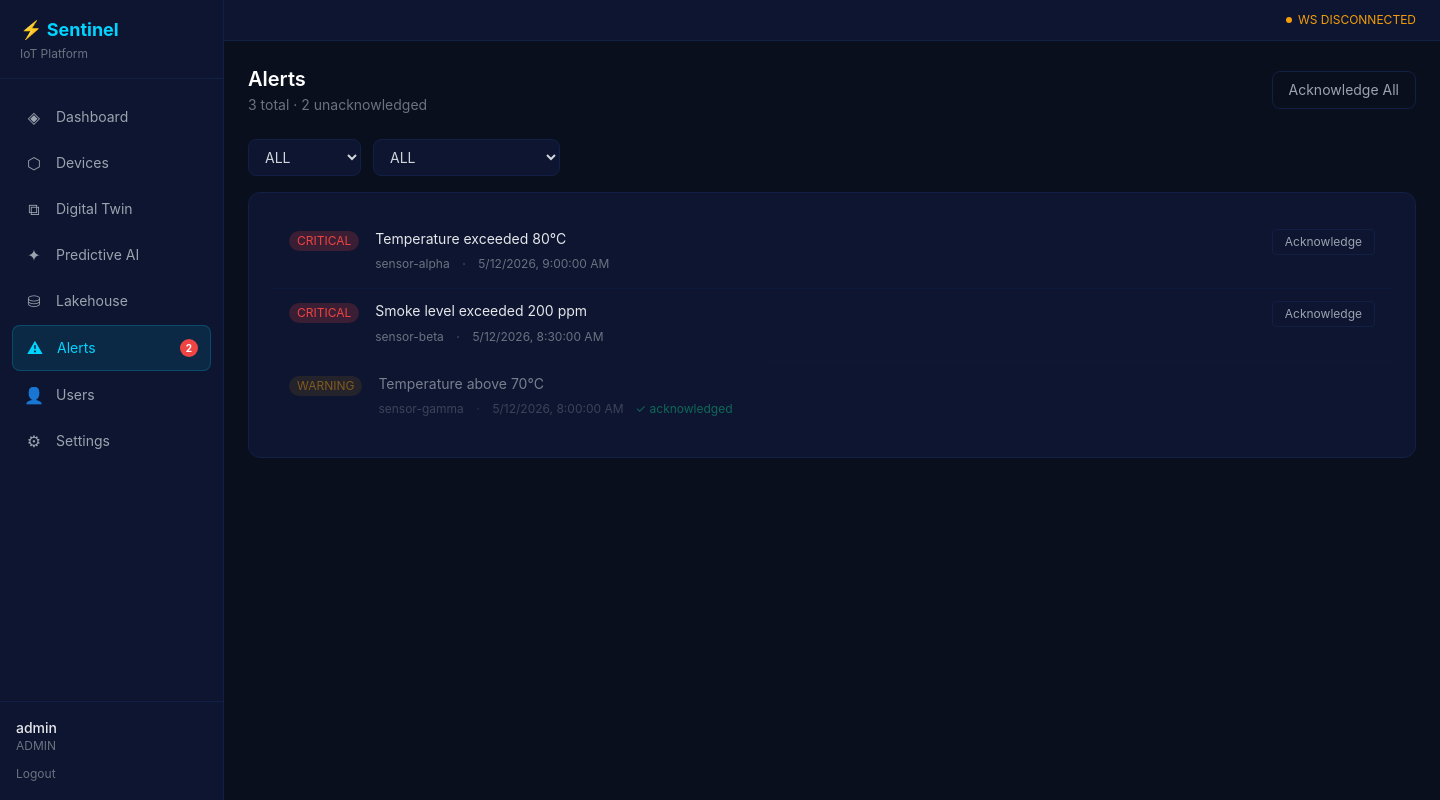
Test: Alerts Page (/alerts) › filter by CRITICAL level hides WARNING alerts
Expected: the text "Temperature above 70°C" is shown, left=378, top=374, right=544, bottom=392
Select "CRITICAL" in the 1st dropdown at (305, 158), box left=248, top=139, right=361, bottom=176
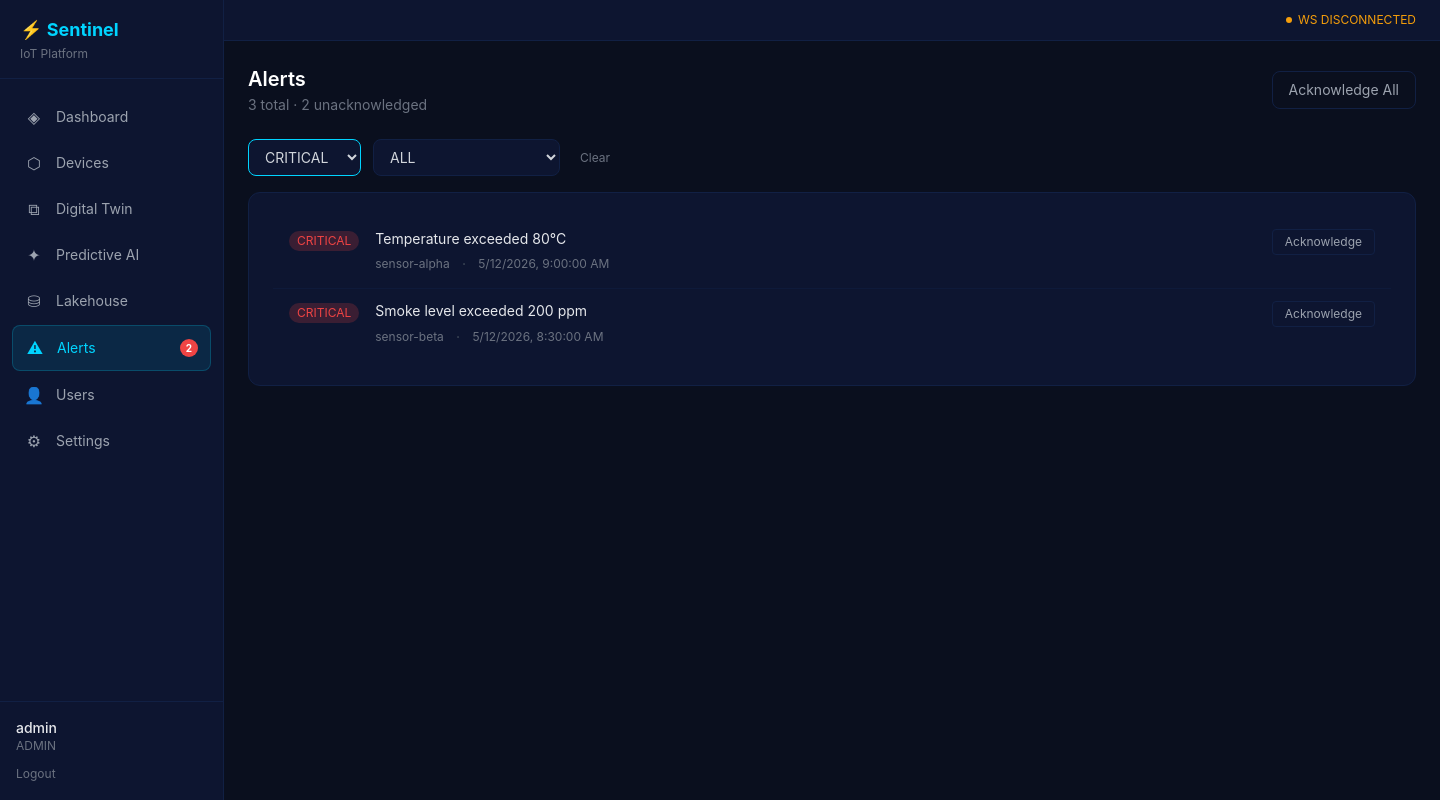
Expected: the text "Temperature exceeded 80°C" is shown, left=375, top=230, right=566, bottom=247
Now the text "Temperature above 70°C" is gone
